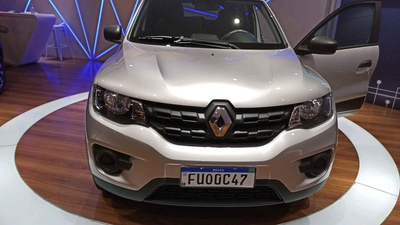Frontal Veiculo: (86, 1, 339, 208)
